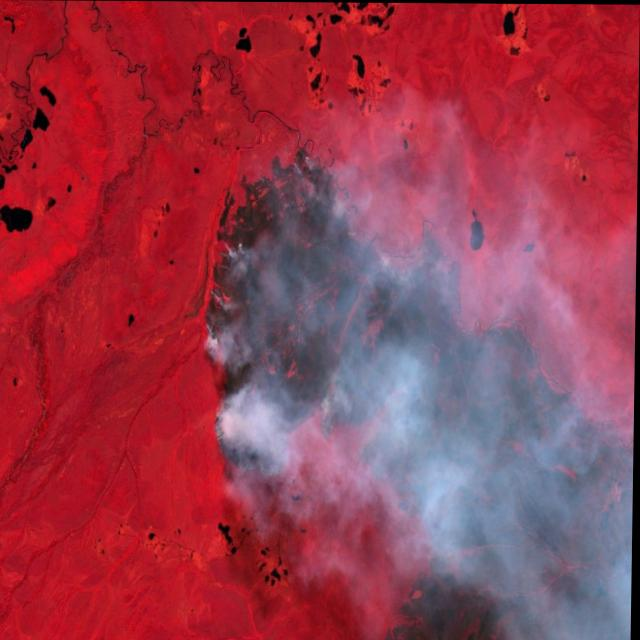fire: (199, 142, 429, 361), (212, 382, 378, 489)
